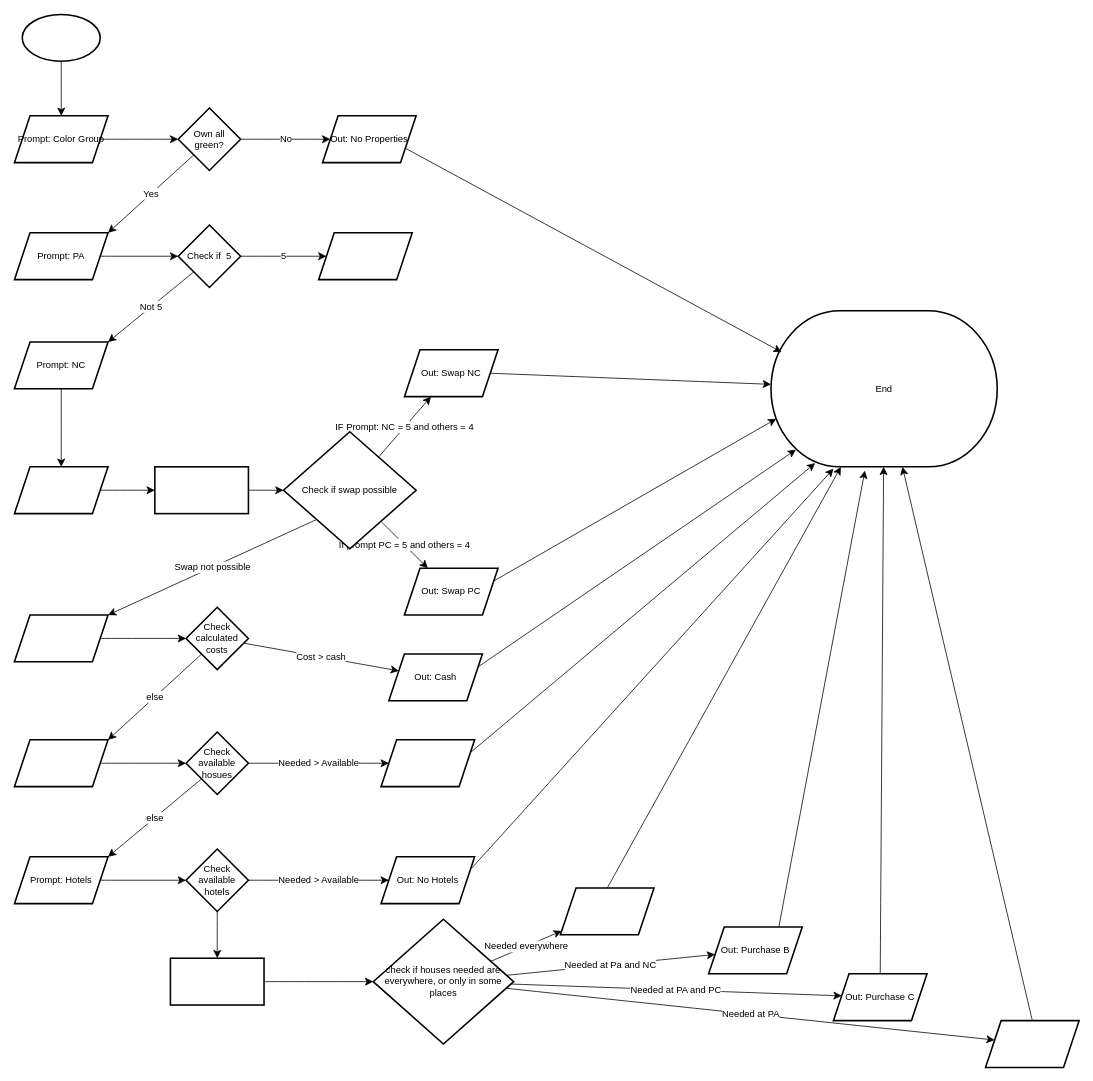
Image size: 1093x1081. Some labels were removed from this diagram. Here are the shapes that lost their labels. From the top down, the centre of each, then its label:
(x=61, y=37): Start
(x=365, y=256): Out: One Hotel
(x=60, y=490): Prompt: PC
(x=201, y=490): Calculate number of houses / hotels needed
(x=60, y=638): Prompt: Cash
(x=60, y=763): Prompt: Houses
(x=427, y=763): Out: No Houses
(x=606, y=911): Out: Purchase A
(x=216, y=981): Figure out which houses are needed where
(x=1032, y=1043): Out: Purchase D
